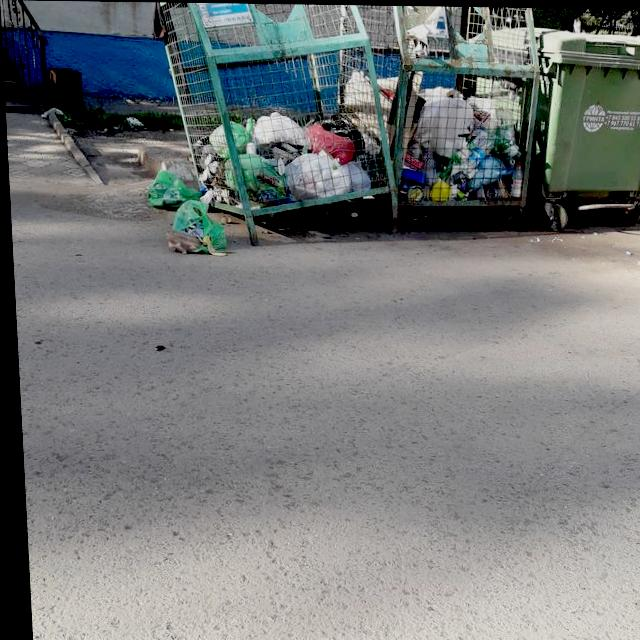Trash_Can_Closed: (490, 21, 640, 229)
